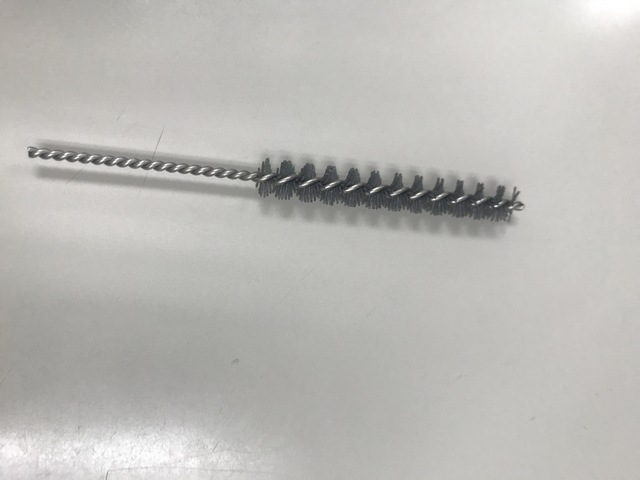Twist Brush-A: (26, 138, 527, 227)
